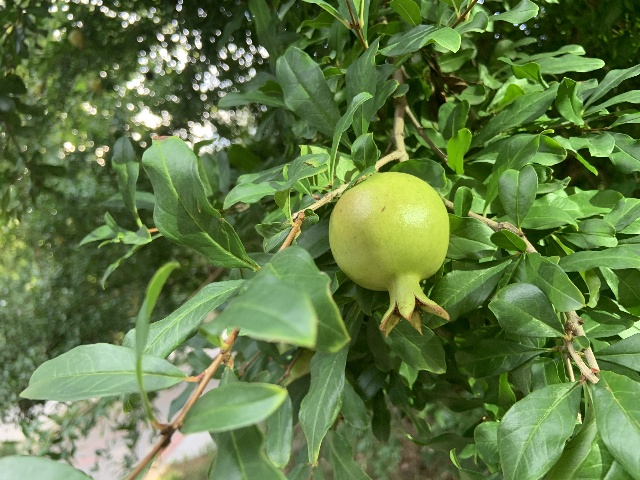mid-growth: (328, 170, 451, 339)
